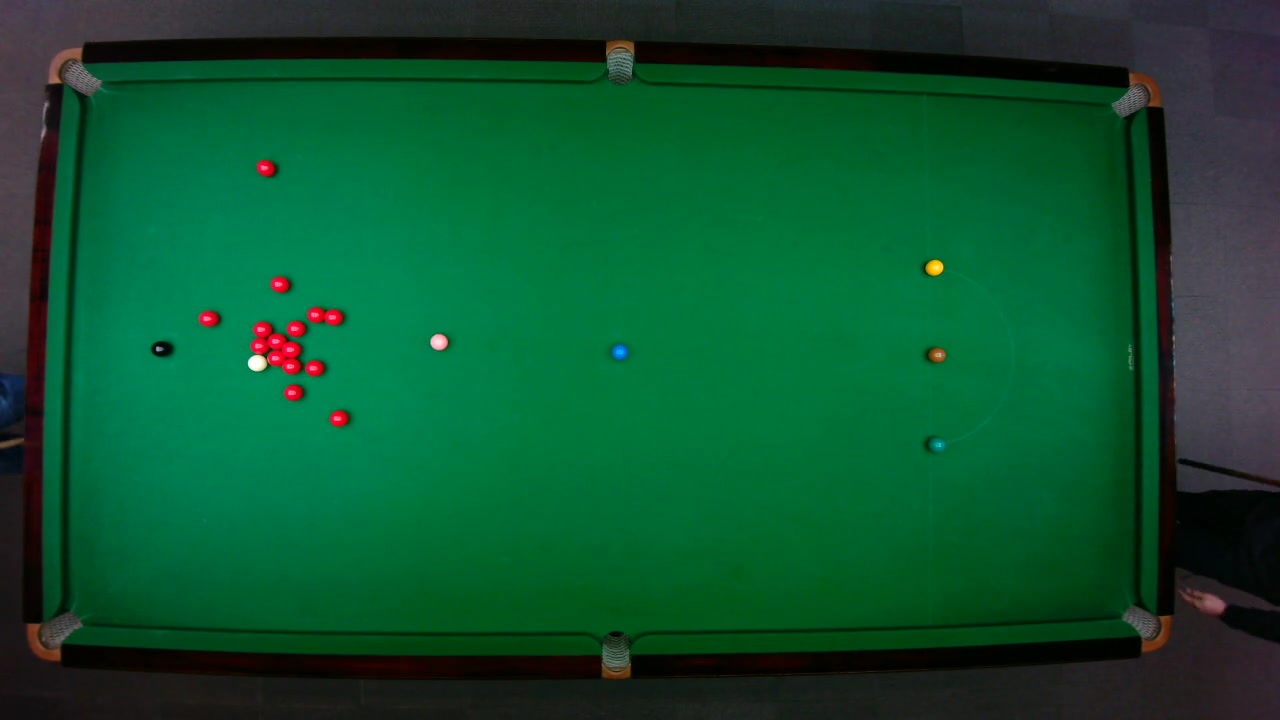bag: (24, 609, 84, 662), (45, 46, 102, 96), (1119, 603, 1172, 652), (1108, 71, 1162, 118), (600, 629, 630, 680), (605, 38, 633, 85)
black: (149, 339, 171, 357)
blue: (610, 342, 628, 360)
brown: (926, 346, 946, 362)
green: (926, 435, 946, 452)
pink: (428, 332, 449, 351)
red: (284, 318, 306, 337), (254, 158, 276, 177), (196, 309, 219, 327), (328, 408, 349, 427), (303, 358, 325, 376), (268, 275, 290, 293), (248, 336, 269, 354), (282, 383, 303, 401), (251, 319, 272, 337), (323, 307, 344, 325), (281, 339, 301, 357), (265, 349, 286, 366), (306, 305, 325, 323), (281, 357, 301, 374), (266, 332, 286, 348)
white: (246, 353, 267, 372)
yellow: (923, 258, 944, 276)
zone: (924, 266, 1013, 444)
